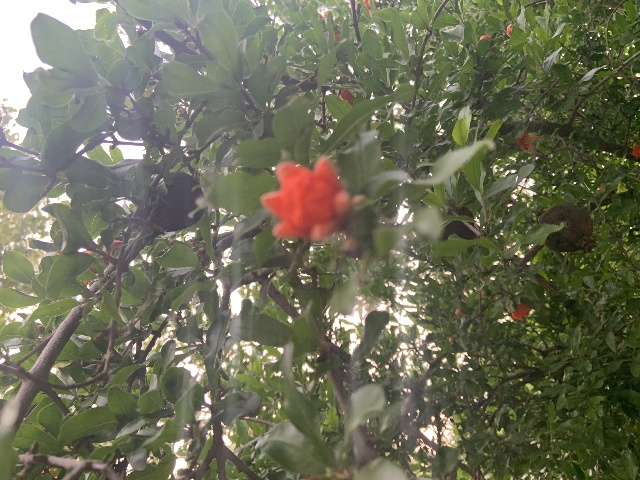bud: (506, 24, 512, 37)
flower: (260, 155, 351, 242), (515, 130, 538, 153), (510, 300, 532, 320)
